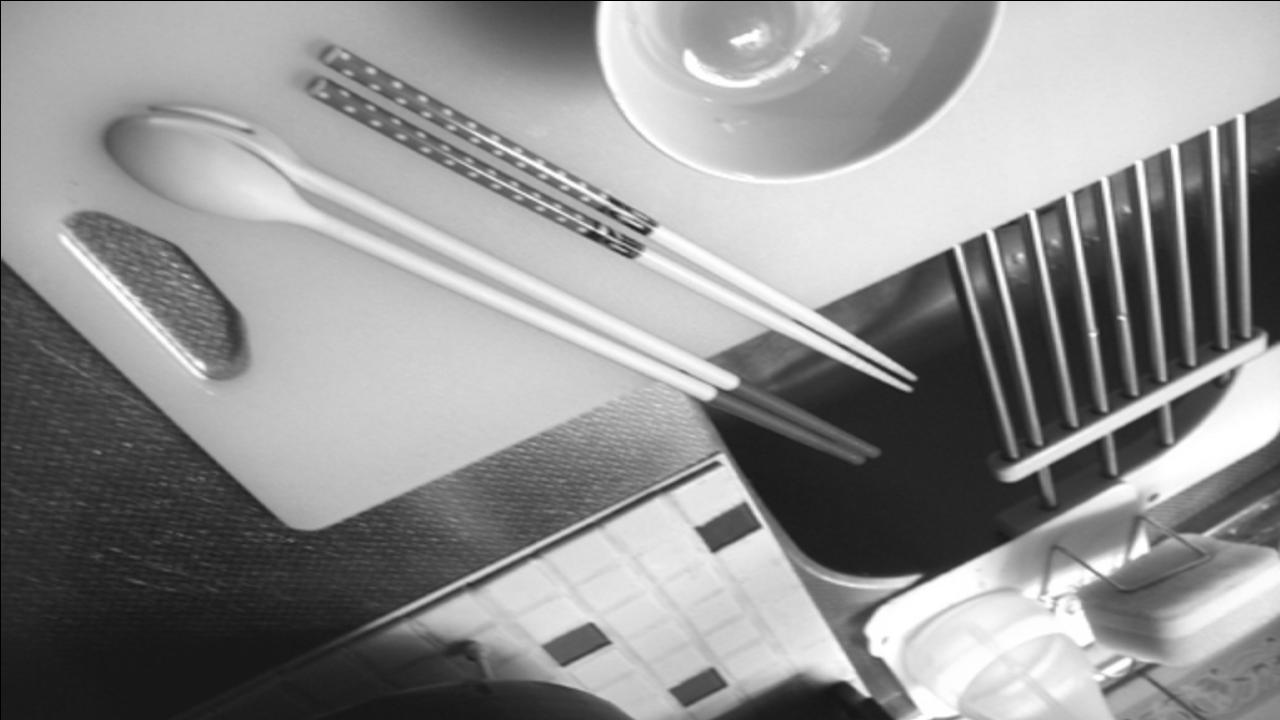chopstick: (304, 43, 911, 395)
